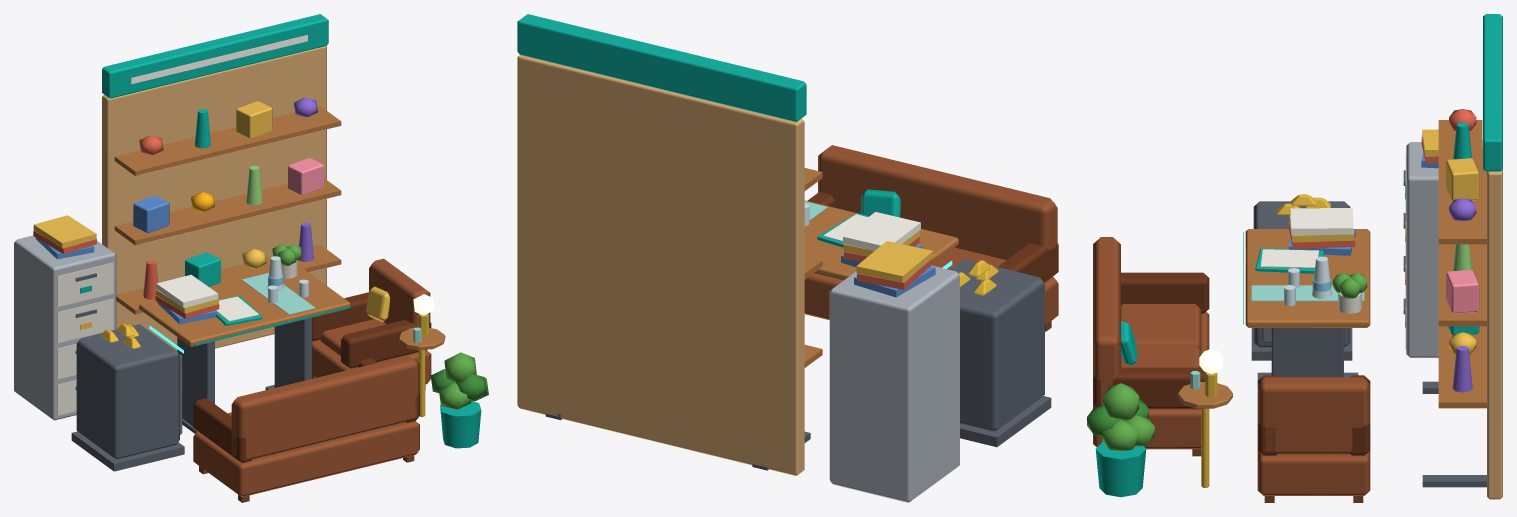
The model's file is station_special_3.glb.
3 renders of one model, left to right at view 1: azimuth 30°, elevation 25°; view 2: azimuth 150°, elevation 25°; view 3: azimuth 270°, elevation 25°, orthographic. The views are drawn at different scales.
Parts seen in each view (by area): view 1: station_special_3; view 2: station_special_3; view 3: station_special_3.
Part boxes in pixels (x1,y1,x2,y2): station_special_3: (14, 14, 488, 502); station_special_3: (517, 14, 1058, 502); station_special_3: (1087, 14, 1502, 502).
Size of the model in its own units: 2.19 by 1.98 by 2.07.
